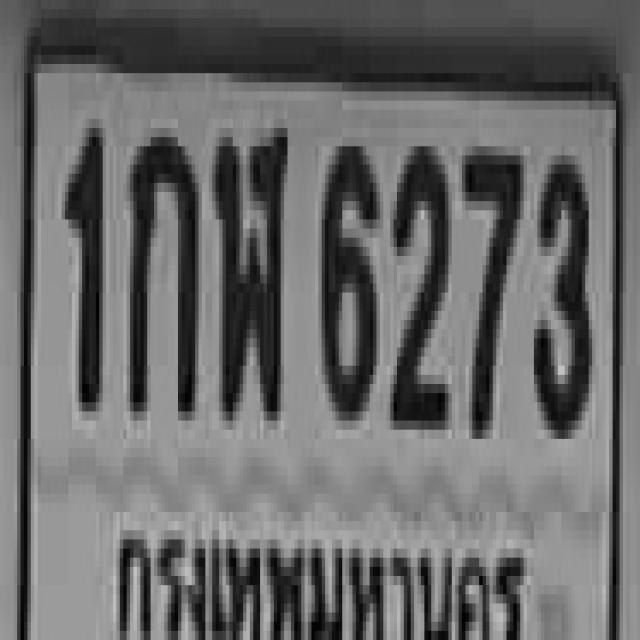1: (62, 119, 99, 402)
10GorGai: (127, 128, 195, 411)
2: (387, 137, 445, 421)
3: (530, 146, 588, 430)
51LorChula: (212, 119, 284, 411)
6: (318, 137, 373, 412)
7: (459, 137, 520, 430)
Bangkok: (102, 493, 530, 640)
